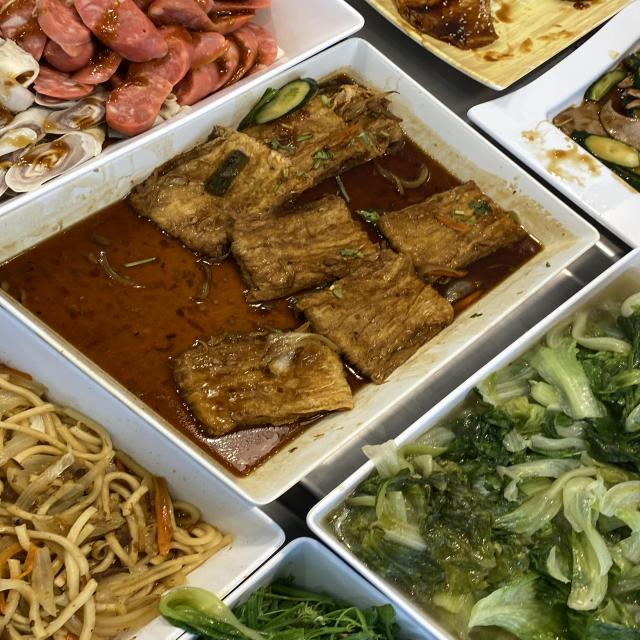bean bag: (185, 163, 440, 339)
